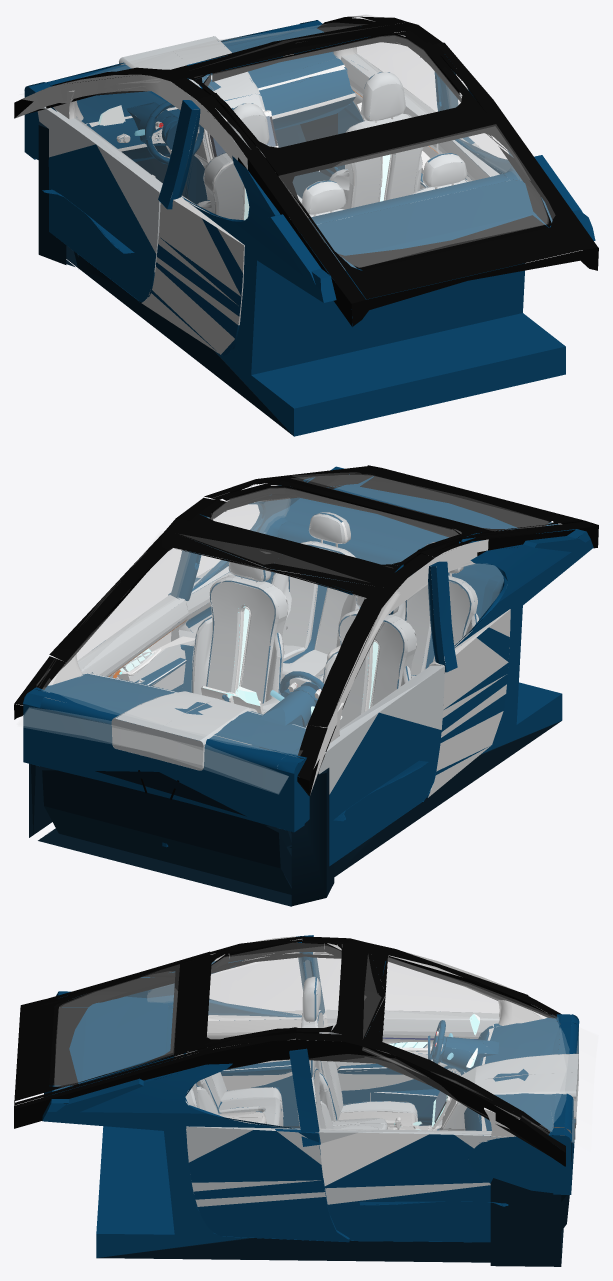
Rendered from innenraum_lod2.glb.
The picture shows the model from 3 angles, top to bottom: view 1: azimuth 30°, elevation 25°; view 2: azimuth 150°, elevation 25°; view 3: azimuth 270°, elevation 25°; orthographic projection. The views are drawn at different scales.
Parts seen in each view (by area): view 1: Innen_Leder_blau, Innen_Glas, Innen_Alcantara, Innen_Leder_weiss, Innen_Sitz_Naht, Innen_Teppich, Innen_Kunststoff_02, Lenkrad, Innen_Kunststoff_01; view 2: Innen_Glas, Innen_Leder_blau, Innen_Leder_weiss, Innen_Alcantara, Innen_Teppich, Innen_Sitz_Naht, Innen_Kunststoff_02, Innen_Kunststoff_01, Innen_Material_2537, Lenkrad; view 3: Innen_Leder_blau, Innen_Glas, Innen_Alcantara, Innen_Leder_weiss, Innen_Teppich, Innen_Sitz_Naht, Innen_Kunststoff_02, Lenkrad, Innen_Kunststoff_01.
Part boxes in pixels (x1,y1,x2,y2): Innen_Leder_blau: (24,20,595,436); Innen_Glas: (74,15,554,270); Innen_Alcantara: (14,16,598,326); Innen_Leder_weiss: (37,36,499,272); Innen_Sitz_Naht: (53,47,356,354); Innen_Teppich: (38,77,337,435); Innen_Kunststoff_02: (15,54,453,233); Lenkrad: (145,101,203,164); Innen_Kunststoff_01: (98,105,390,220); Innen_Glas: (17,473,556,793); Innen_Leder_blau: (23,466,593,866); Innen_Leder_weiss: (46,512,478,794); Innen_Alcantara: (14,465,598,795); Innen_Teppich: (29,721,561,906); Innen_Sitz_Naht: (48,609,510,797); Innen_Kunststoff_02: (87,539,488,794); Innen_Kunststoff_01: (120,608,378,719); Innen_Material_2537: (206,544,470,703); Lenkrad: (279,671,323,703); Innen_Leder_blau: (42,935,579,1257); Innen_Glas: (54,942,598,1151); Innen_Alcantara: (14,936,565,1166); Innen_Leder_weiss: (174,977,578,1206); Innen_Teppich: (96,1039,575,1266); Innen_Sitz_Naht: (207,1000,546,1136); Innen_Kunststoff_02: (210,936,558,1185); Lenkrad: (428,1020,446,1064); Innen_Kunststoff_01: (388,1014,479,1067).
Size of the model in its own units: 1.72 by 1.33 by 3.16.
